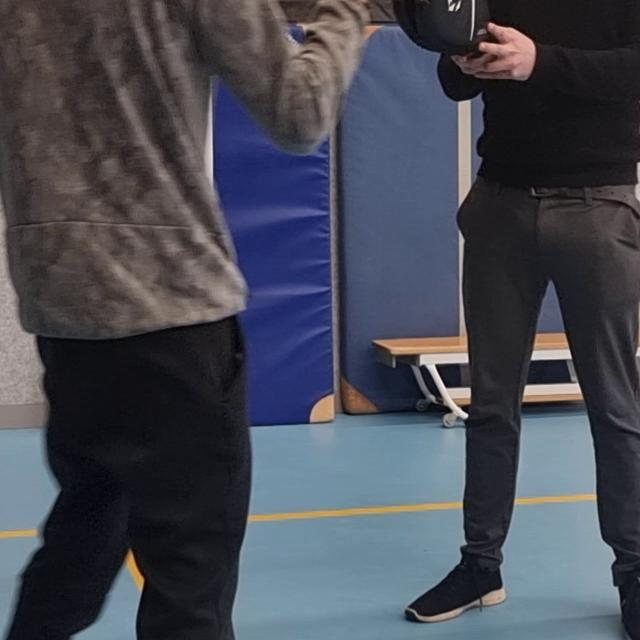paddle: (389, 0, 494, 57)
